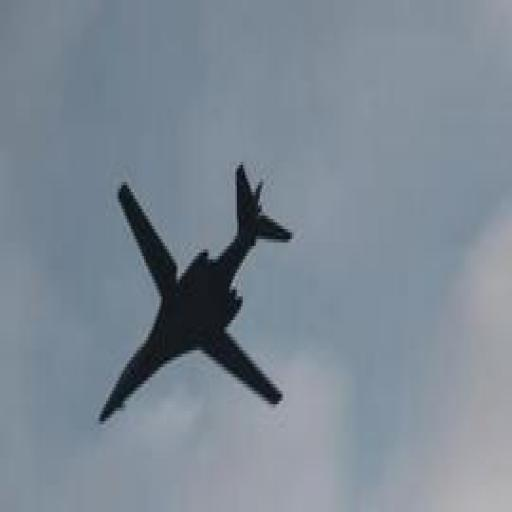aircraft: (96, 158, 298, 431)
